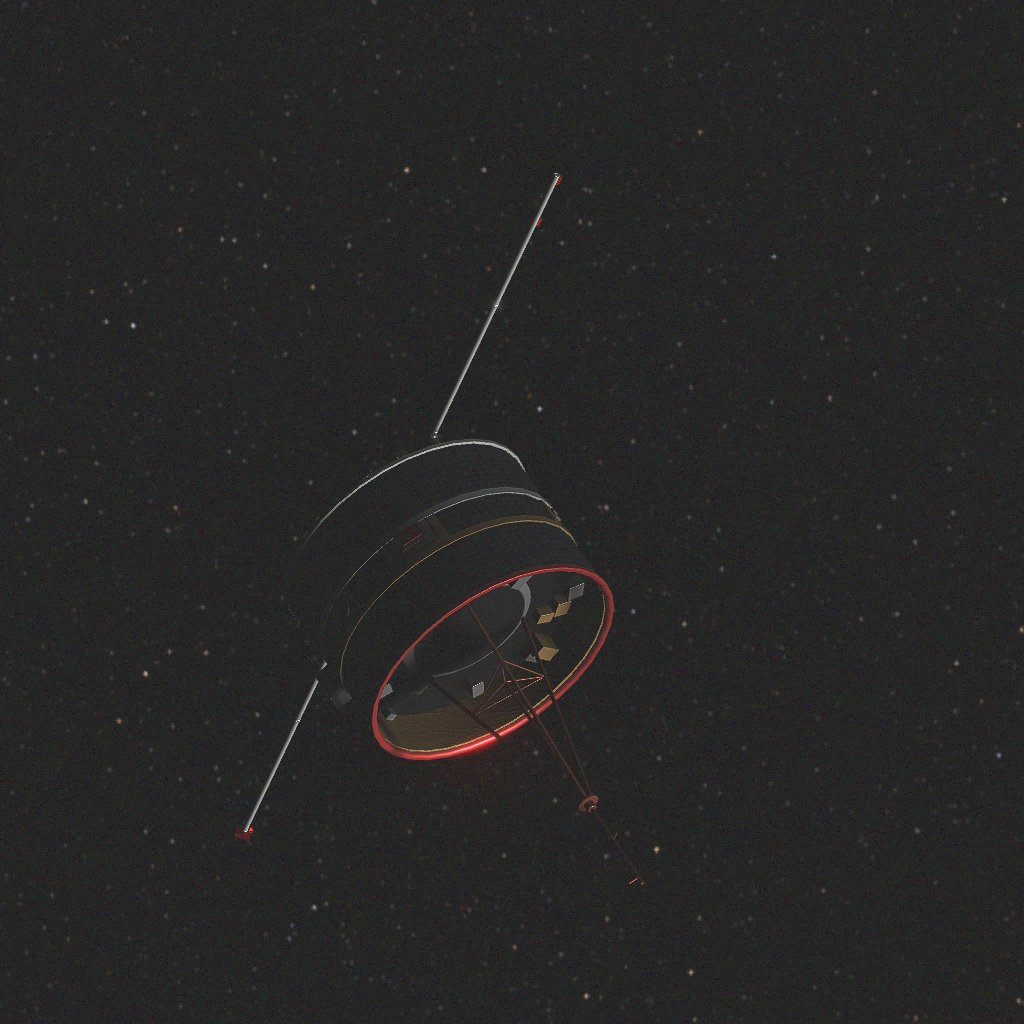double_star: (234, 173, 644, 885)
